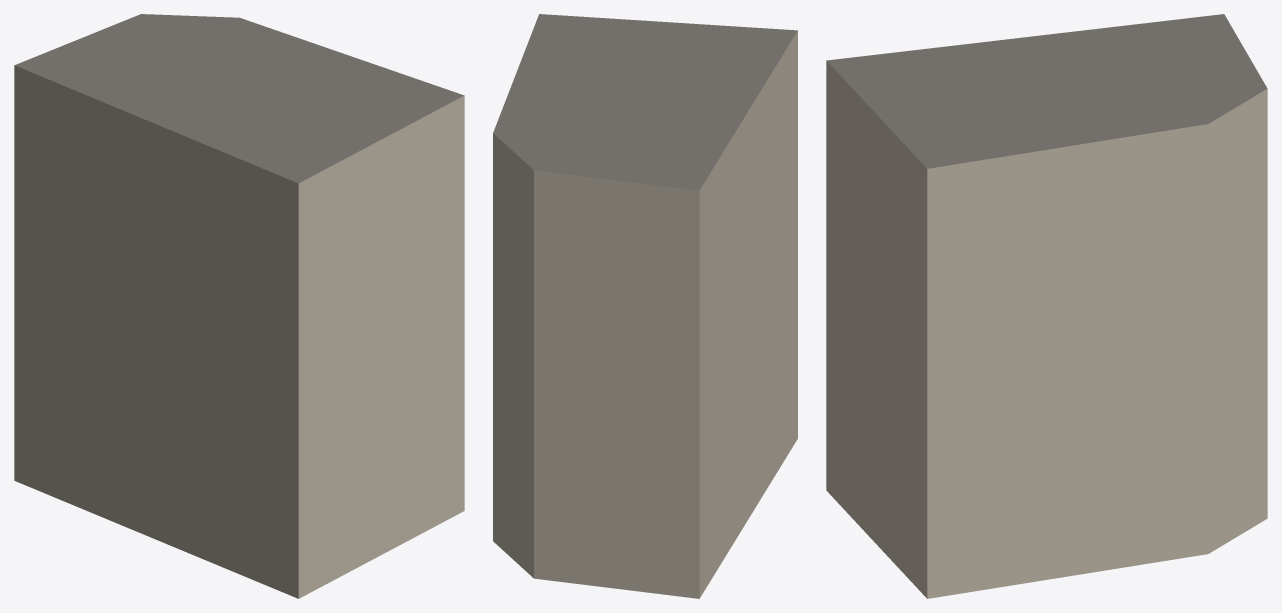
The picture shows the model from 3 angles, left to right: view 1: azimuth 30°, elevation 25°; view 2: azimuth 150°, elevation 25°; view 3: azimuth 270°, elevation 25°; orthographic projection. The views are drawn at different scales.
Visible parts, largest first — view 1: HP-w380339980; view 2: HP-w380339980; view 3: HP-w380339980.
Boxes of the visible parts, x1=… form: HP-w380339980: x1=14, y1=14, x2=464, y2=598; HP-w380339980: x1=493, y1=14, x2=797, y2=598; HP-w380339980: x1=826, y1=14, x2=1267, y2=598.
Bounding box in the file's own units: 13.9 × 18 × 16.73.
